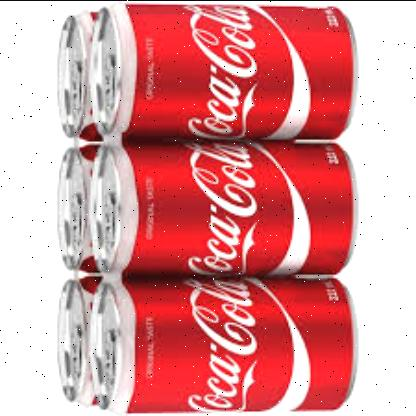Can: (89, 278, 355, 414), (87, 143, 349, 277), (91, 8, 353, 140), (58, 146, 108, 278), (52, 13, 102, 140), (57, 278, 105, 406)
